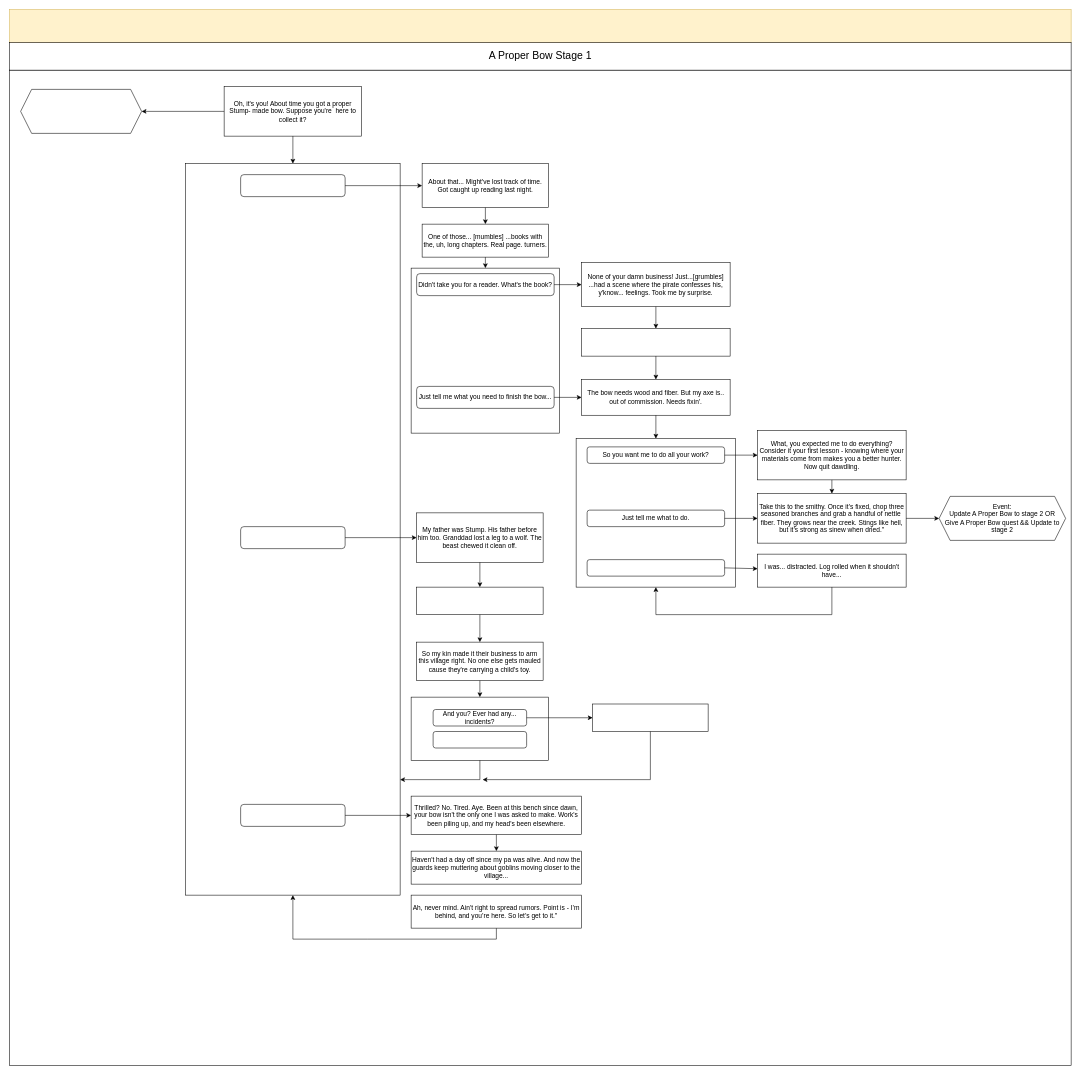
The diagram is 1081 pixels wide and 1075 high, and some of its shapes have lost their labels. Each missing label, with the centre of its shape:
Anyway...: pixel 655 342
Condition: A proper bow Stage 2 not started: pixel 81 111
I need a bow for the hunt.: pixel 292 185
Let's talk about my bow.: pixel 480 739
Needless to say, there was no proper bow on his that day.: pixel 479 601
Not a scratch. My bows don't fail.: pixel 650 717
Stump: pixel 540 26
What happened to the axe?: pixel 656 567
Why's your name "Stump"?: pixel 292 537
You don't sound thrilled to see me.: pixel 292 815
